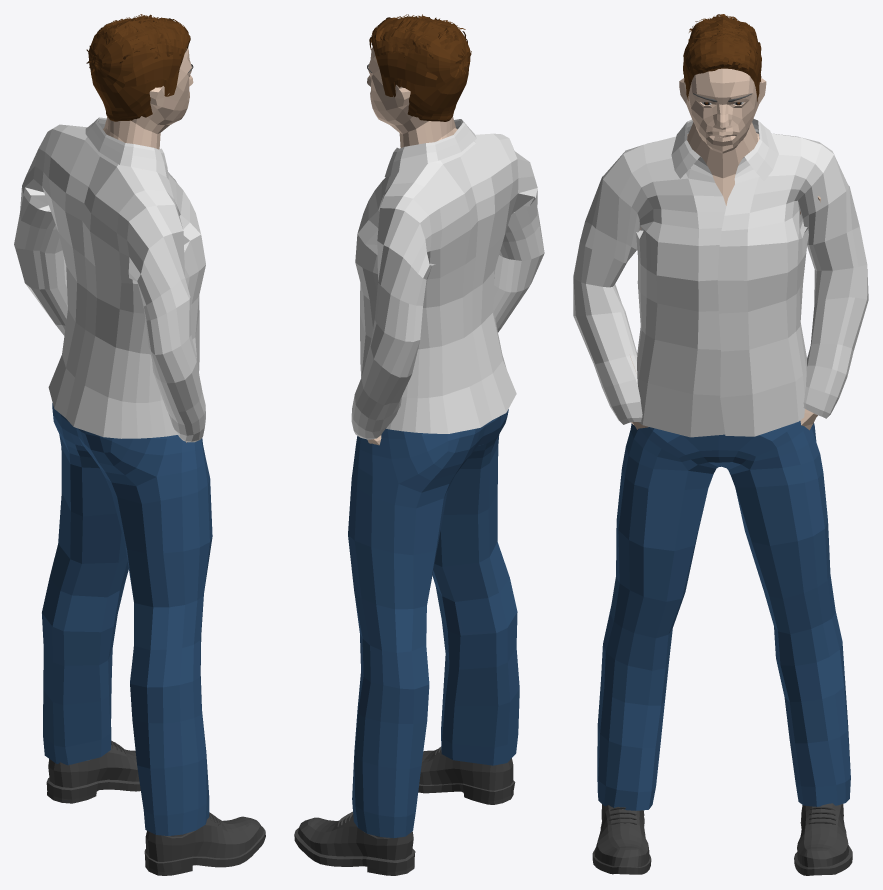
Rendered from pedestrian.glb.
The picture shows the model from 3 angles, left to right: view 1: azimuth 30°, elevation 25°; view 2: azimuth 150°, elevation 25°; view 3: azimuth 270°, elevation 25°; orthographic projection.
Visible parts, largest first — view 1: LowPolyMan; view 2: LowPolyMan; view 3: LowPolyMan.
Part boxes in pixels (x1,y1,x2,y2): LowPolyMan: (14, 14, 265, 875); LowPolyMan: (294, 14, 544, 875); LowPolyMan: (573, 14, 868, 875).
Bounding box in the file's own units: 0.3665 × 1.86 × 0.6045.
